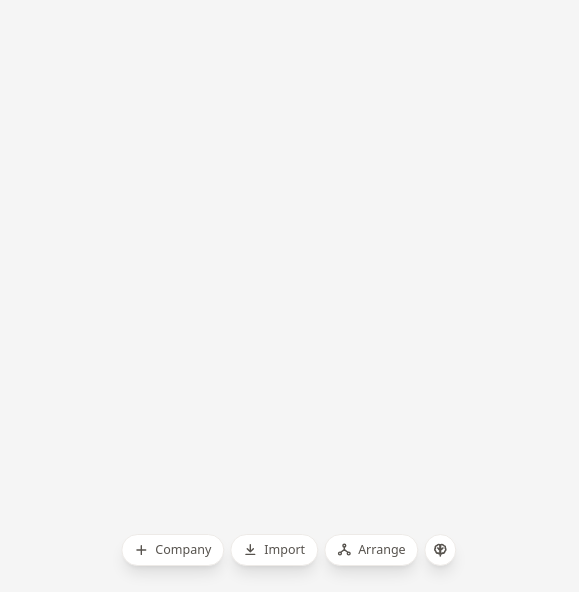
the demo brain controls › offers Replay once the brain has grown
Click the button named "Grow a demo brain" at (441, 550), box [425,534,457,566]
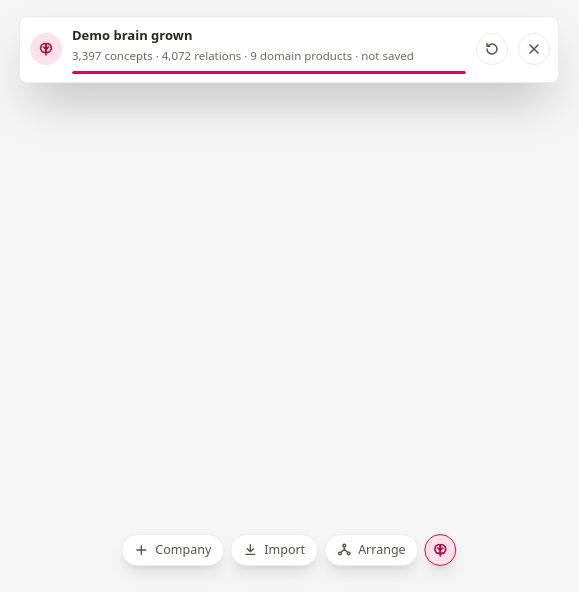
Expected: the element "Demo brain" shows "Demo brain grown", [72,26,192,44]
Expected: the button named "Grow the demo brain again" is shown, [476,34,508,66]
